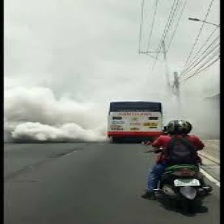smoke: (5, 80, 106, 144)
